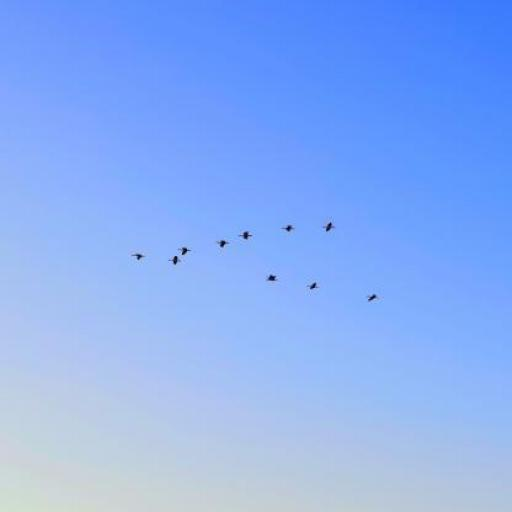bird: (213, 239, 234, 250), (320, 222, 340, 232), (236, 231, 258, 240), (128, 251, 148, 260), (303, 280, 320, 290), (177, 245, 193, 255), (263, 275, 283, 283), (280, 225, 298, 233), (168, 254, 182, 264), (364, 296, 382, 302)
